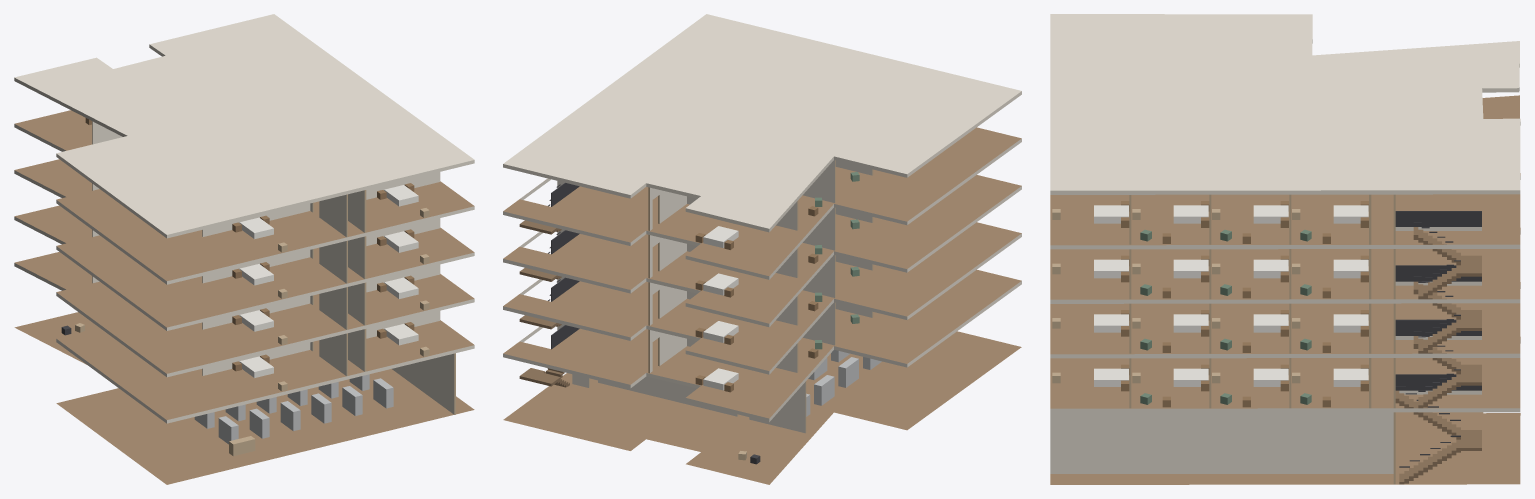
Rendered from interior.glb.
3 views of the same model, side by side, from view 1: azimuth 30°, elevation 25°; view 2: azimuth 150°, elevation 25°; view 3: azimuth 270°, elevation 25° (orthographic). The views are drawn at different scales.
Visible parts, largest first — view 1: slabs, partitions, coarse-s0, coarse-s4, coarse-s1, coarse-s2, coarse-s3; view 2: slabs, partitions, stair, coarse-s0, coarse-s2, coarse-s3, coarse-s1, coarse-s4; view 3: slabs, partitions, stair, coarse-s3, coarse-s1, coarse-s2, coarse-s4.
Part boxes in pixels (<box>): slabs: <box>14,14,474,484</box>; partitions: <box>92,121,455,414</box>; coarse-s0: <box>61,323,393,456</box>; coarse-s4: <box>85,118,429,252</box>; coarse-s1: <box>232,322,429,391</box>; coarse-s2: <box>232,275,429,344</box>; coarse-s3: <box>232,229,429,298</box>; slabs: <box>503,14,1021,484</box>; partitions: <box>557,160,873,433</box>; stair: <box>519,182,579,387</box>; coarse-s0: <box>738,350,881,464</box>; coarse-s2: <box>695,266,859,344</box>; coarse-s3: <box>695,219,859,297</box>; coarse-s1: <box>695,314,859,392</box>; coarse-s4: <box>695,172,859,249</box>; slabs: <box>1050,14,1520,484</box>; partitions: <box>1050,194,1395,484</box>; stair: <box>1395,211,1481,484</box>; coarse-s3: <box>1052,255,1368,298</box>; coarse-s1: <box>1052,364,1368,407</box>; coarse-s2: <box>1052,310,1368,352</box>; coarse-s4: <box>1052,201,1368,243</box>.
Bounding box in the file's own units: 23.85 × 18.52 × 26.79.
